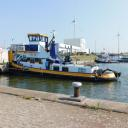tugboat: (8, 33, 123, 83)
